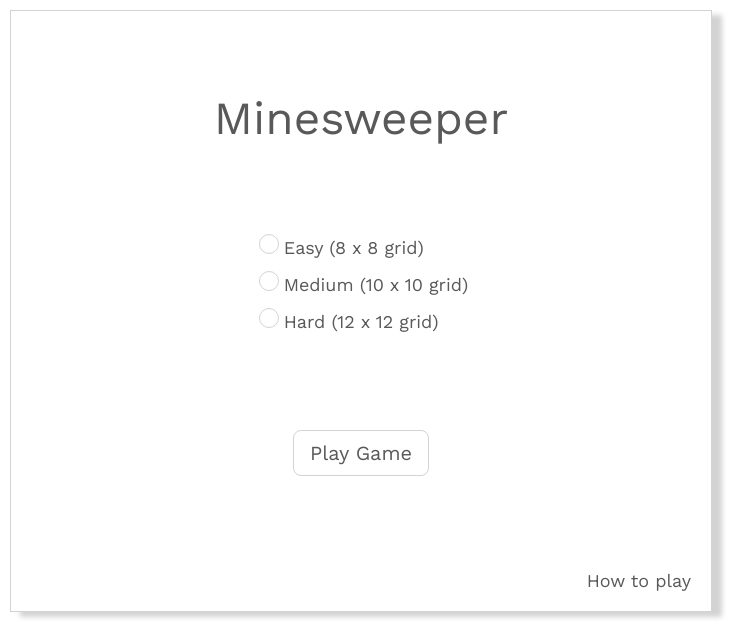
Test: Grid renders squares as expected › Grid populates with correct number of squares
This screenshot has width=741, height=636.
Click the radio button with test id "chose-level-hard" at (269, 318), box left=259, top=308, right=279, bottom=328
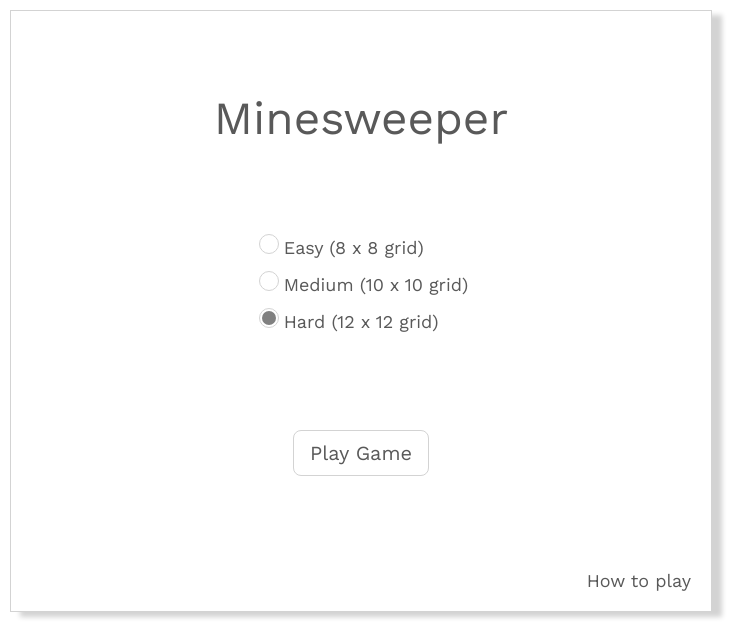
Click the button with test id "start-game" at (361, 453), box left=293, top=430, right=429, bottom=476
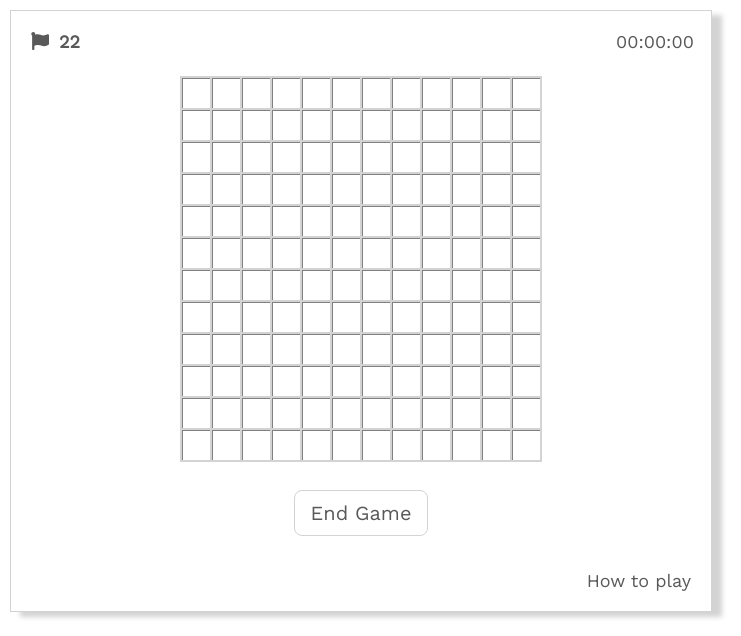
Now the element with test id "grid" is shown, box left=180, top=76, right=542, bottom=462
